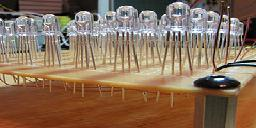LED: (165, 1, 197, 78), (72, 11, 101, 71), (116, 6, 138, 73), (39, 13, 63, 67), (140, 8, 161, 62), (15, 15, 32, 65)
